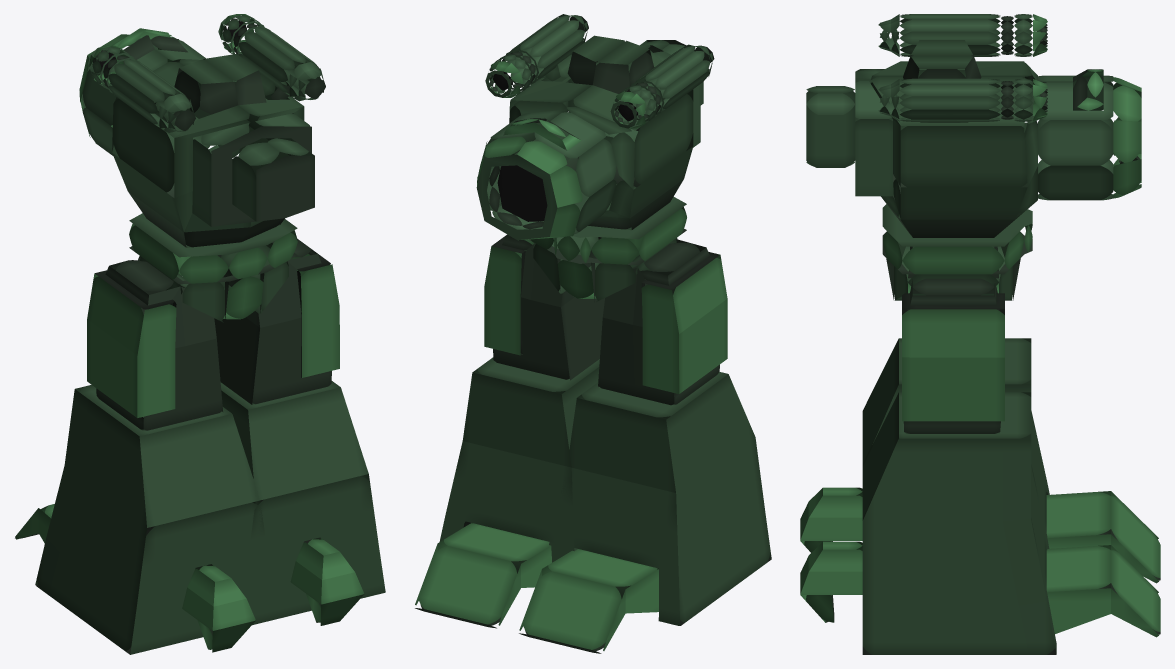
Rendered from CommandoBody.obj.
The picture shows the model from 3 angles, left to right: view 1: azimuth 30°, elevation 25°; view 2: azimuth 150°, elevation 25°; view 3: azimuth 270°, elevation 25°; orthographic projection. The views are drawn at different scales.
Visible parts, largest first — view 1: cuboid, Body, Thigh, Pelvis, cylinder; view 2: cuboid, Body, Thigh, cylinder, Pelvis; view 3: cuboid, Body, Thigh, cylinder, Pelvis.
Boxes of the visible parts, left/top/right/bottom form: cuboid: left=15, top=381, right=385, bottom=654; Body: left=79, top=28, right=314, bottom=247; Thigh: left=87, top=238, right=339, bottom=430; Pelvis: left=129, top=213, right=297, bottom=322; cylinder: left=88, top=14, right=325, bottom=132; cuboid: left=415, top=357, right=771, bottom=653; Body: left=476, top=35, right=703, bottom=240; Thigh: left=484, top=234, right=727, bottom=405; cylinder: left=485, top=14, right=714, bottom=128; Pelvis: left=529, top=196, right=686, bottom=302; cuboid: left=800, top=338, right=1160, bottom=654; Body: left=806, top=40, right=1141, bottom=237; Thigh: left=902, top=246, right=1004, bottom=433; cylinder: left=878, top=14, right=1047, bottom=121; Pelvis: left=882, top=204, right=1032, bottom=300.
Size of the model in its own units: 0.6625 by 1.32 by 0.7937.
1 material, 1 textured.
